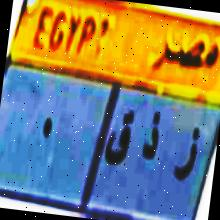0: (40, 104, 56, 150)
qaaf: (104, 105, 134, 174)
zaal: (138, 98, 164, 171)
zay: (171, 115, 203, 190)
